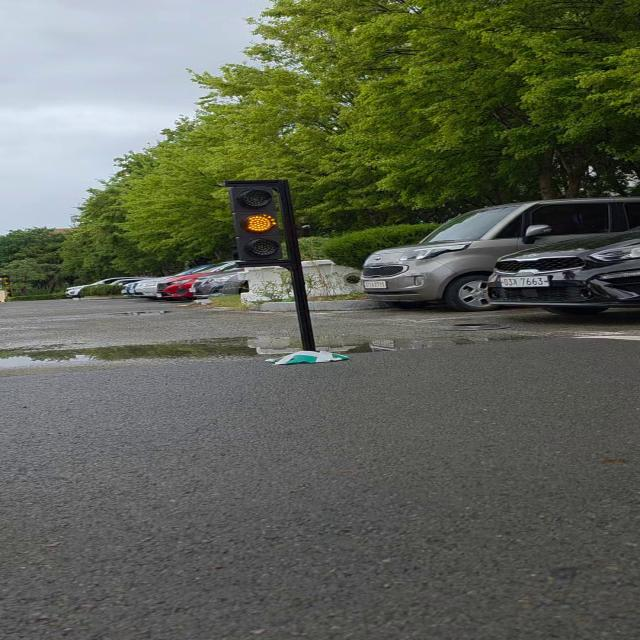yellow: (231, 183, 292, 269)
